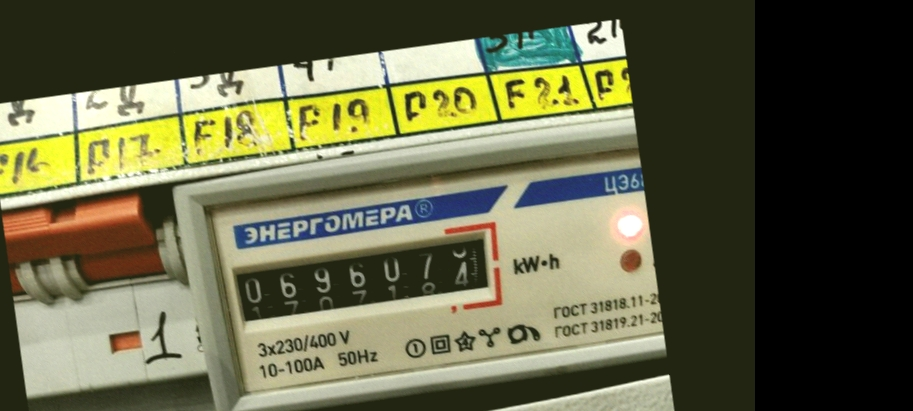0: (243, 273, 266, 305), (382, 251, 405, 283)
4: (450, 258, 473, 288)
6: (276, 267, 302, 300), (348, 258, 370, 288)
7: (417, 248, 438, 280)
9: (313, 264, 335, 295)
screen: (215, 214, 510, 341)
